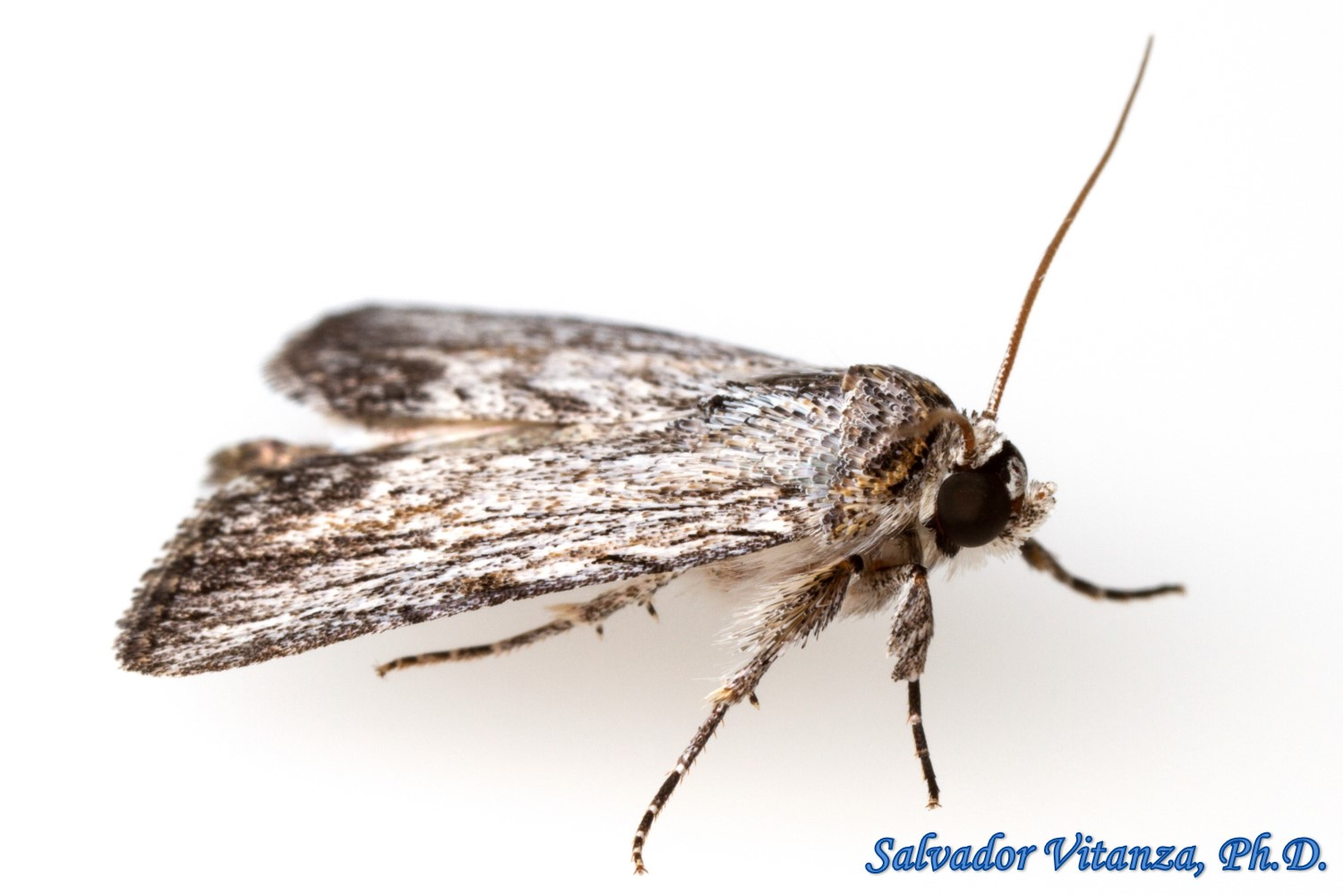Noctuidae: (107, 30, 1190, 871)
